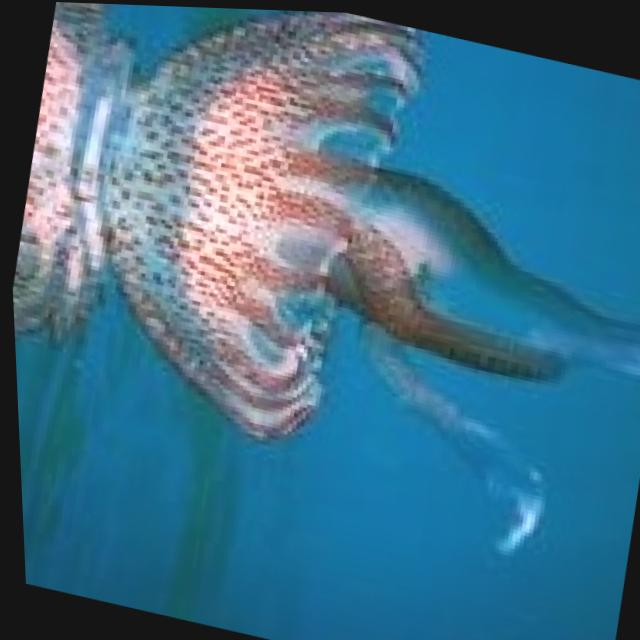Human: (0, 0, 640, 578)
